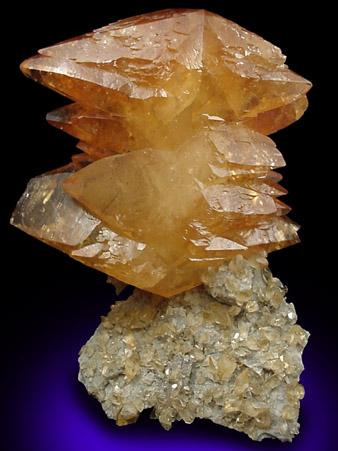calcite: (13, 10, 312, 297), (177, 325, 310, 442), (102, 301, 143, 328), (102, 403, 144, 426), (210, 354, 237, 382), (203, 303, 232, 328)
